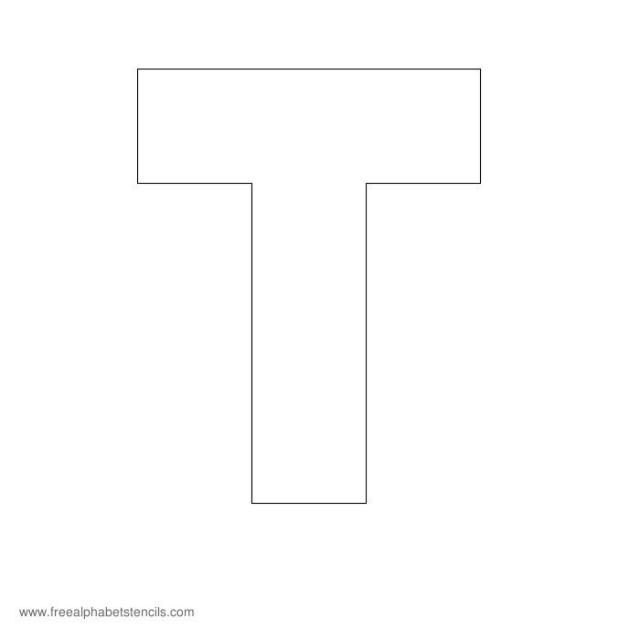T: (87, 22, 516, 541)
